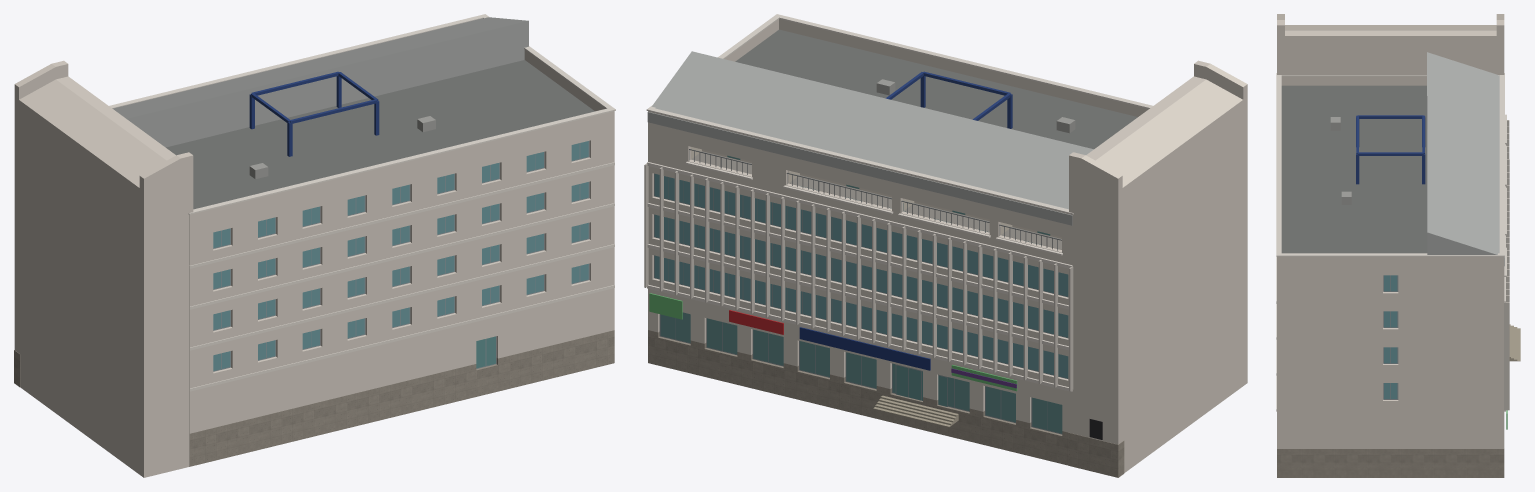
3 views of the same model, side by side, from view 1: azimuth 30°, elevation 25°; view 2: azimuth 150°, elevation 25°; view 3: azimuth 270°, elevation 25° (orthographic). The views are drawn at different scales.
Parts seen in each view (by area): view 1: w451562718__panel-wall, w451562718__roof, w451562718__louver-metal, w451562718__plinth-wall, w451562718__trim, w451562718__glass, w451562718__frame, w451562718__steel-blue; view 2: w451562718__panel-wall, w451562718__louver-metal, w451562718__glass, w451562718__fin, w451562718__roof, w451562718__plinth-wall, w451562718__trim, w451562718__shop-glass, w451562718__frame, w451562718__floor-slab, w451562718__sign-bank, w451562718__rail (+5 smaller); view 3: w451562718__panel-wall, w451562718__roof, w451562718__louver-metal, w451562718__plinth-wall, w451562718__trim, w451562718__fin, w451562718__steel-blue, w451562718__glass, w451562718__stone-step, w451562718__frame, w451562718__ac.
Boxes of the visible parts, x1,y1,x2,y2 form: w451562718__panel-wall: [14, 49, 614, 477]; w451562718__roof: [166, 60, 594, 209]; w451562718__louver-metal: [113, 17, 528, 147]; w451562718__plinth-wall: [14, 330, 614, 466]; w451562718__trim: [109, 14, 615, 391]; w451562718__glass: [213, 141, 588, 370]; w451562718__frame: [213, 140, 589, 371]; w451562718__steel-blue: [249, 71, 379, 156]; w451562718__panel-wall: [648, 19, 1247, 472]; w451562718__louver-metal: [647, 51, 1093, 225]; w451562718__glass: [654, 166, 1068, 378]; w451562718__fin: [644, 163, 1073, 391]; w451562718__roof: [735, 29, 1137, 149]; w451562718__plinth-wall: [648, 330, 1124, 477]; w451562718__trim: [646, 14, 1152, 391]; w451562718__shop-glass: [660, 312, 1062, 433]; w451562718__frame: [654, 173, 1067, 434]; w451562718__floor-slab: [691, 151, 1061, 249]; w451562718__sign-bank: [799, 327, 930, 370]; w451562718__rail: [689, 149, 1061, 250]; w451562718__panel-wall: [1277, 14, 1504, 448]; w451562718__roof: [1281, 85, 1427, 253]; w451562718__louver-metal: [1427, 52, 1504, 266]; w451562718__plinth-wall: [1277, 449, 1504, 477]; w451562718__trim: [1276, 73, 1506, 411]; w451562718__fin: [1504, 120, 1509, 410]; w451562718__steel-blue: [1356, 115, 1425, 184]; w451562718__glass: [1384, 275, 1397, 398]; w451562718__stone-step: [1509, 324, 1520, 361]; w451562718__frame: [1383, 275, 1398, 399]; w451562718__ac: [1330, 117, 1351, 204].
Bounding box in the file's own units: 43.42 × 27.31 × 22.21.
23 materials, 1 textured.
